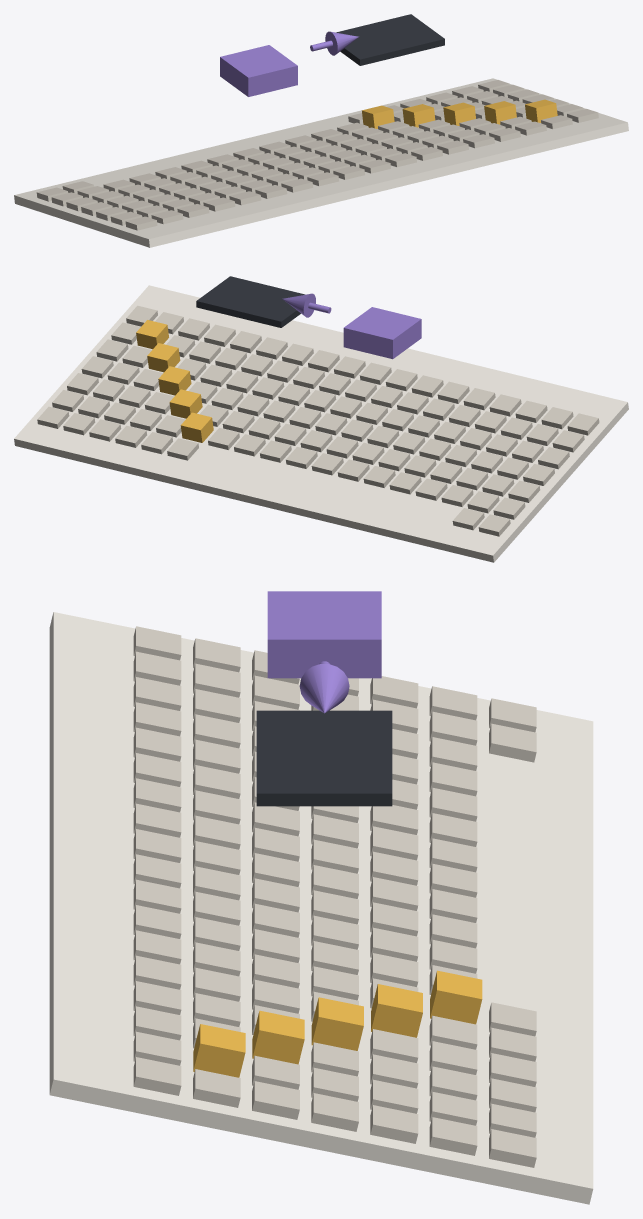
Rendered from chem-periodic-metalloid.glb.
The picture shows the model from 3 angles, top to bottom: view 1: azimuth 30°, elevation 25°; view 2: azimuth 150°, elevation 25°; view 3: azimuth 270°, elevation 25°; orthographic projection. The views are drawn at different scales.
Parts seen in each view (by area): view 1: table-backing, semiconductor-chip-face, stair-step-silicon-sample, highlight-cell-14-3, highlight-cell-16-5, highlight-cell-13-2, highlight-cell-17-6, highlight-cell-15-4, in-between-arrow-head; view 2: table-backing, semiconductor-chip-face, stair-step-silicon-sample, highlight-cell-13-2, highlight-cell-15-4, highlight-cell-17-6, highlight-cell-14-3, highlight-cell-16-5, cell-2-1, cell-18-1, cell-4-3, cell-9-3 (+103 smaller); view 3: table-backing, semiconductor-chip-face, stair-step-silicon-sample, highlight-cell-16-5, highlight-cell-17-6, highlight-cell-13-2, highlight-cell-15-4, highlight-cell-14-3, in-between-arrow-head, cell-18-7, cell-18-2, cell-18-3 (+89 smaller).
Part boxes in pixels (x1,y1,x2,y2): table-backing: (14,78,628,247); semiconductor-chip-face: (336,14,444,65); stair-step-silicon-sample: (220,45,297,96); highlight-cell-14-3: (402,104,435,127); highlight-cell-16-5: (484,101,516,124); highlight-cell-13-2: (362,105,394,128); highlight-cell-17-6: (525,99,557,122); highlight-cell-15-4: (443,102,475,125); in-between-arrow-head: (325,31,358,55); table-backing: (14,285,628,562); semiconductor-chip-face: (196,276,304,327); stair-step-silicon-sample: (343,307,421,359); highlight-cell-13-2: (180,412,213,442); highlight-cell-15-4: (158,366,191,395); highlight-cell-17-6: (136,320,168,349); highlight-cell-14-3: (169,389,202,418); highlight-cell-16-5: (147,343,180,372); cell-2-1: (452,508,484,530); cell-18-1: (37,406,69,428); cell-4-3: (430,461,462,483); cell-9-3: (300,430,332,452); table-backing: (49,612,593,1204); semiconductor-chip-face: (256,710,392,806); stair-step-silicon-sample: (267,591,381,678); highlight-cell-16-5: (252,1010,304,1064); highlight-cell-17-6: (193,1024,245,1077); highlight-cell-13-2: (430,970,482,1024); highlight-cell-15-4: (311,997,363,1050); highlight-cell-14-3: (371,984,422,1037); in-between-arrow-head: (299,664,349,713); cell-18-7: (133,1057,181,1095); cell-18-2: (429,1117,477,1155); cell-18-3: (370,1105,418,1143).
Size of what is drawn, in the model's own units: 3.1 by 0.9815 by 1.52.
